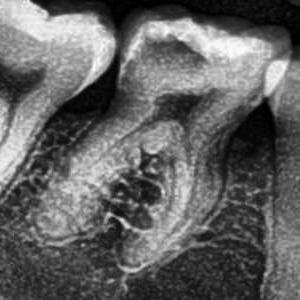tooth: (33, 9, 284, 279), (0, 0, 131, 209)
